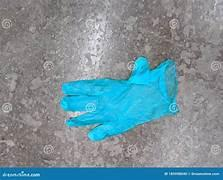Glove: (60, 57, 178, 140)
